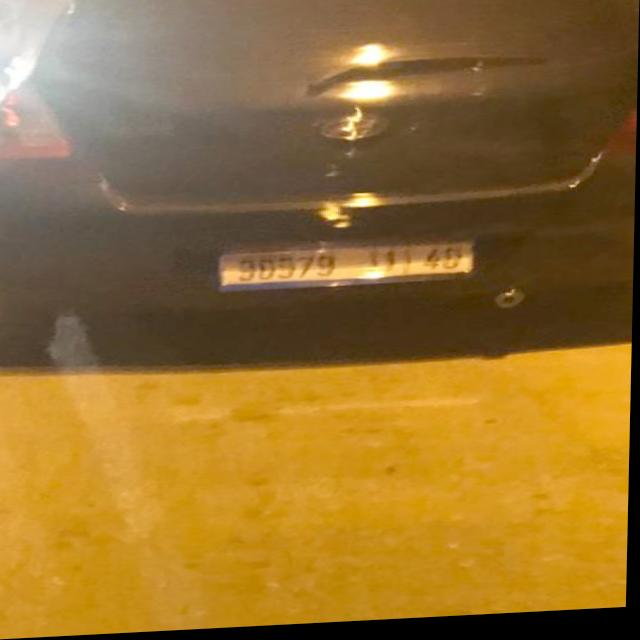License-Plate: (223, 246, 475, 288)
